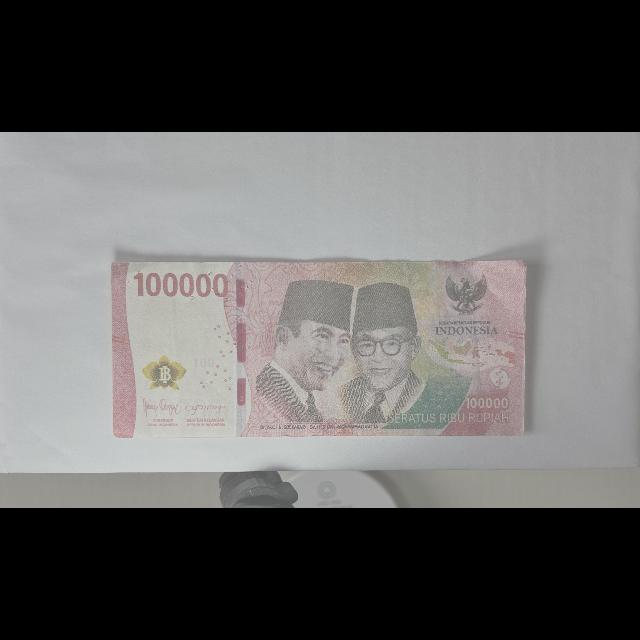Palsu-100k: (111, 259, 528, 439)
Tinta-Palsu-100k: (141, 355, 187, 392)
